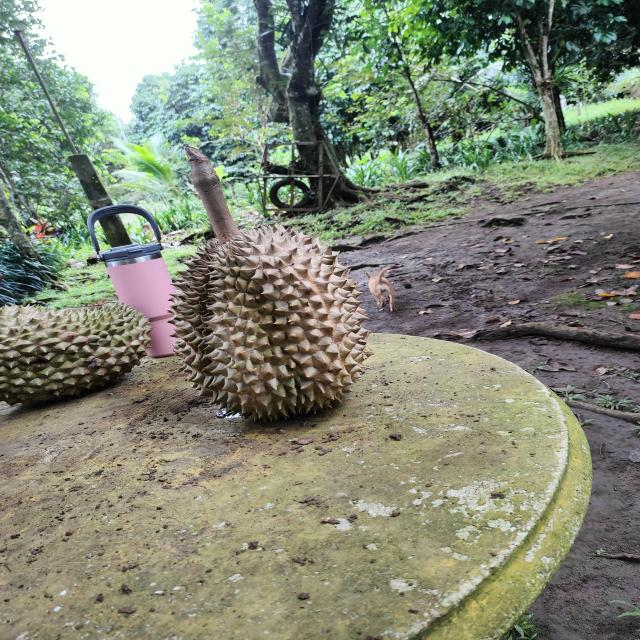mature: (172, 225, 368, 420)
